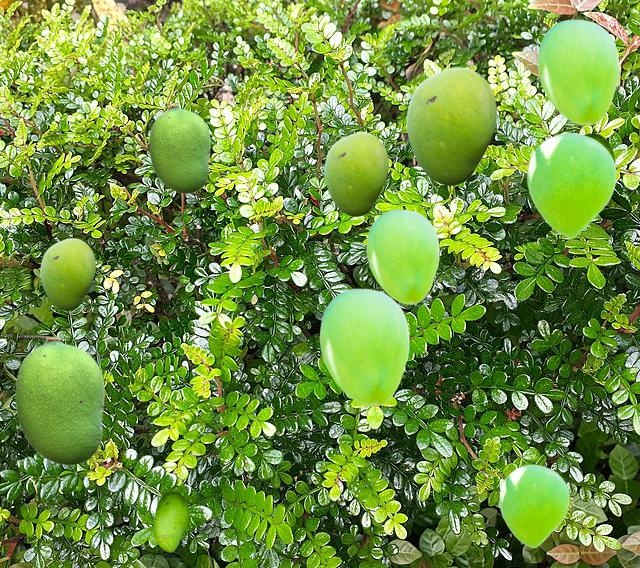green_mango: (15, 336, 103, 464), (319, 288, 408, 405), (406, 67, 495, 184), (527, 132, 615, 237), (537, 19, 618, 124), (366, 209, 438, 303), (499, 464, 568, 547), (149, 104, 209, 192), (324, 132, 387, 215), (40, 238, 94, 309), (153, 491, 188, 551), (585, 133, 614, 159)
